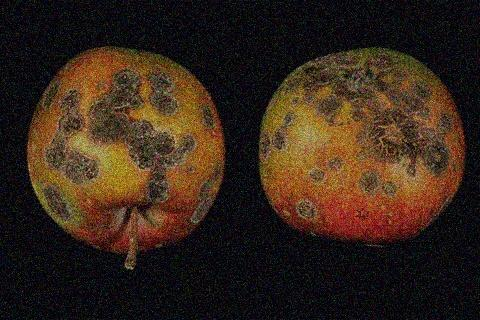rotten apple: (255, 43, 468, 258), (22, 43, 227, 259)
